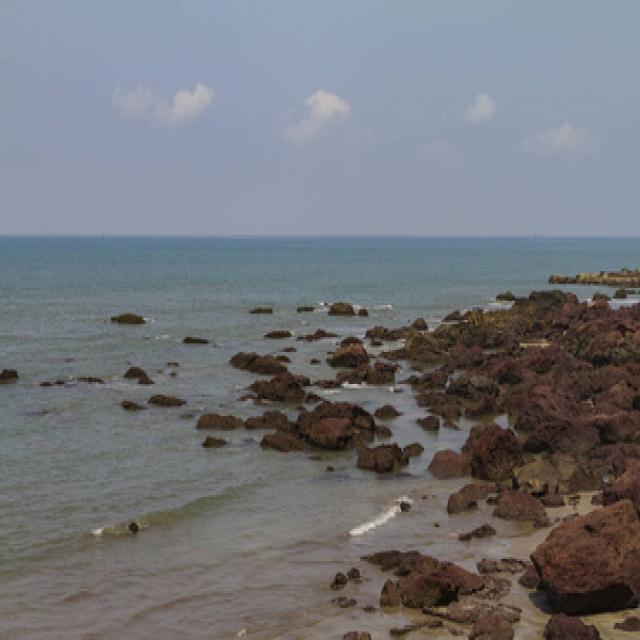reef: (184, 318, 452, 516)
